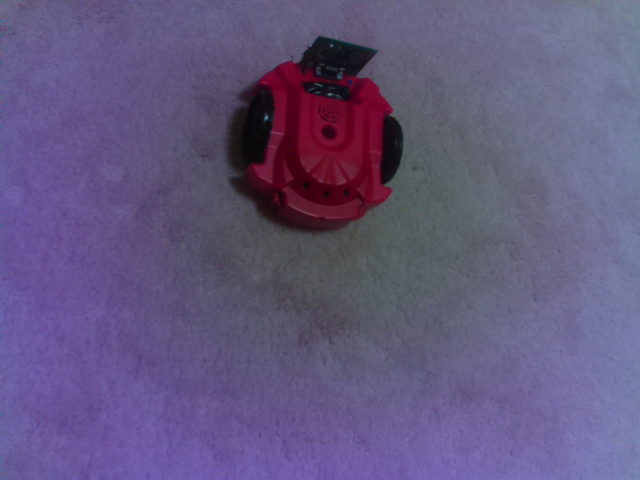chassis: (235, 33, 411, 234)
